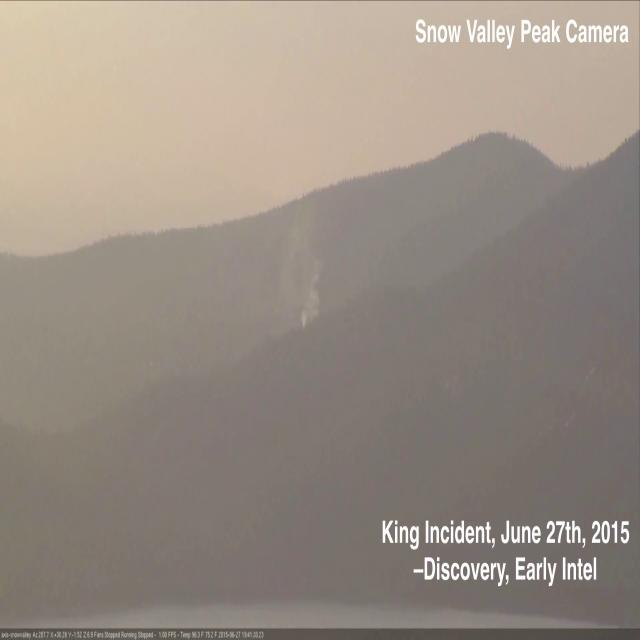smoke: (271, 182, 324, 328)
